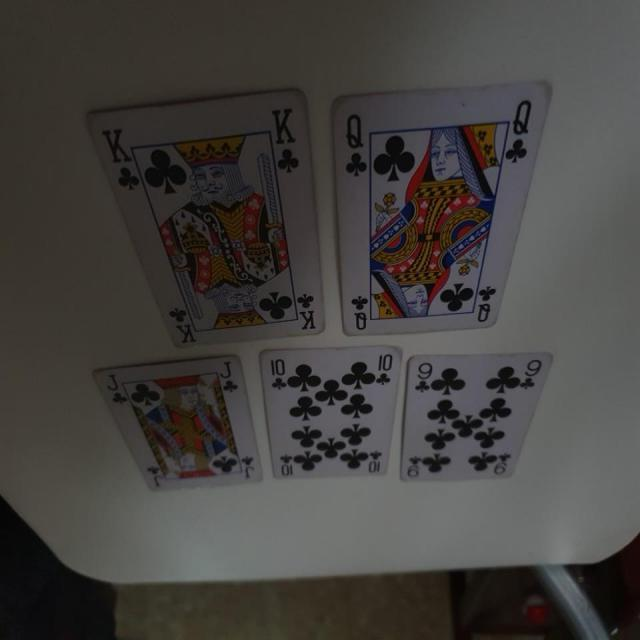10 of clubs: (260, 344, 408, 478)
9 of clubs: (398, 349, 556, 484)
jack of clubs: (92, 350, 264, 494)
king of clubs: (83, 84, 326, 350)
queen of clubs: (332, 80, 554, 340)
